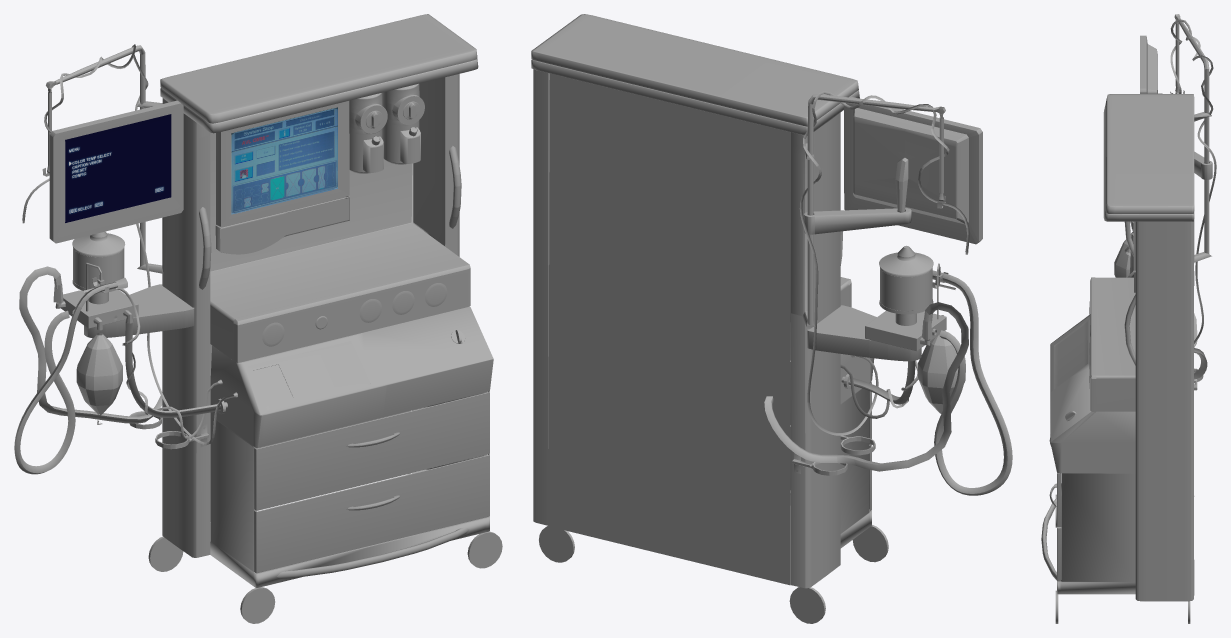
The model's file is AnestheisiaMachine.fbx.
3 views of the same model, side by side, from view 1: azimuth 30°, elevation 25°; view 2: azimuth 150°, elevation 25°; view 3: azimuth 270°, elevation 25° (orthographic). The views are drawn at different scales.
Visible parts, largest first — view 1: AnestheisiaMachine; view 2: AnestheisiaMachine; view 3: AnestheisiaMachine.
Part boxes in pixels (x1,y1,x2,y2): AnestheisiaMachine: (14, 14, 502, 623); AnestheisiaMachine: (531, 14, 1012, 623); AnestheisiaMachine: (1041, 14, 1216, 623).
Size of the model in its own units: 131 by 150 by 52.33.
